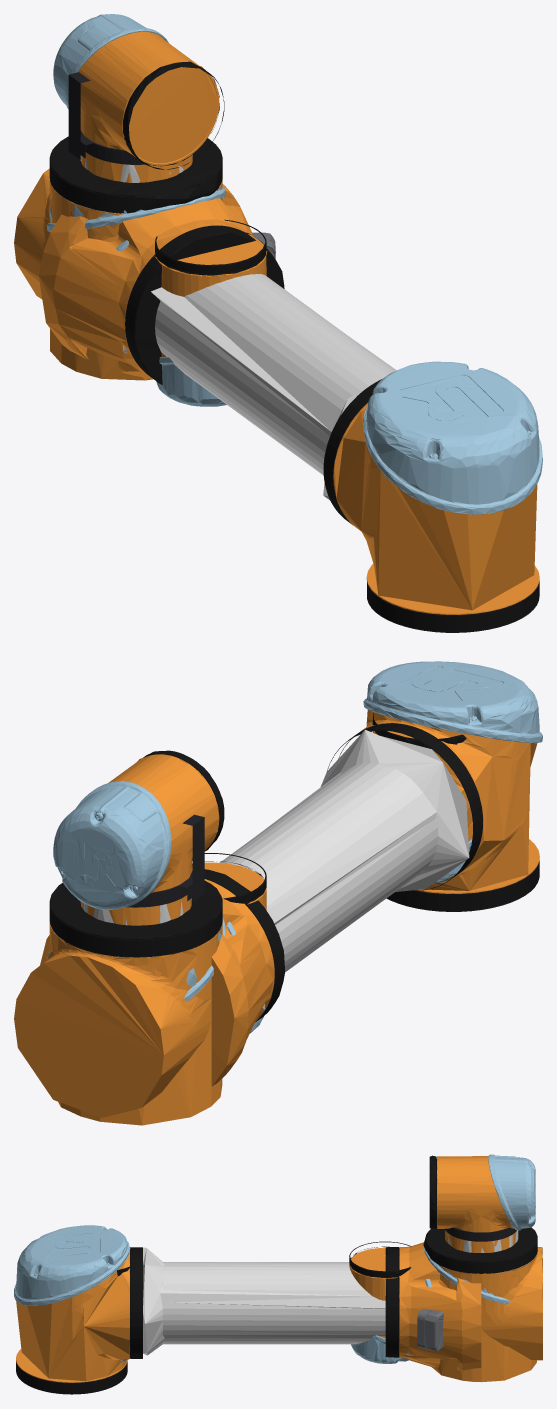
Rendered from arm.glb.
The picture shows the model from 3 angles, top to bottom: view 1: azimuth 30°, elevation 25°; view 2: azimuth 150°, elevation 25°; view 3: azimuth 270°, elevation 25°; orthographic projection. The views are drawn at different scales.
Visible parts, largest first — view 1: b3, b1, b5, b2, b6, b7; view 2: b3, b2, b5, b1, b7, b6, b4; view 3: b3, b5, b1, b2, b6, b9, b7.
Boxes of the visible parts, x1,y1,x2,y2 form: b3: (46, 182, 542, 632); b1: (38, 184, 284, 385); b5: (53, 14, 224, 182); b2: (14, 136, 222, 299); b6: (154, 219, 267, 406); b7: (68, 72, 192, 182); b3: (47, 661, 542, 1125); b2: (14, 881, 236, 1117); b5: (53, 750, 224, 925); b1: (40, 869, 284, 1086); b7: (80, 814, 204, 925); b6: (204, 853, 266, 1033); b4: (50, 713, 472, 976); b3: (14, 1225, 536, 1394); b5: (429, 1154, 535, 1252); b1: (385, 1242, 481, 1370); b2: (423, 1227, 542, 1360); b6: (349, 1241, 410, 1363); b9: (417, 1308, 443, 1351); b7: (445, 1227, 518, 1252).
Bounding box in the file's own units: 0.1552 × 0.2434 × 0.5484.
